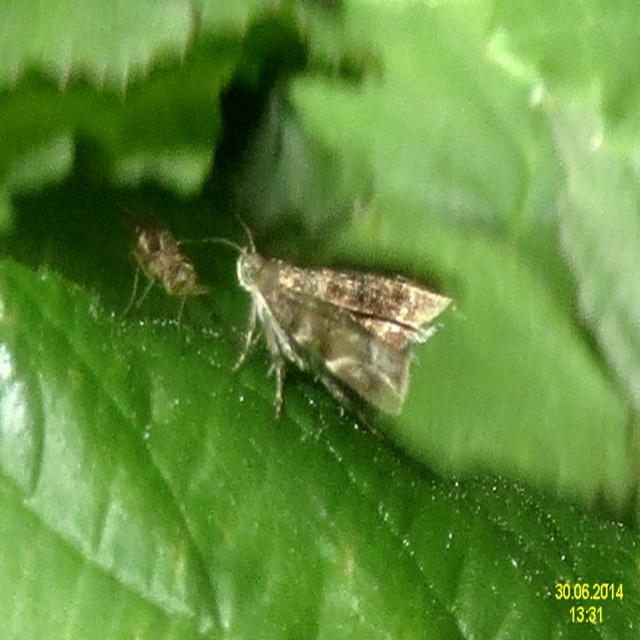Moths and butterflies: (168, 210, 457, 429), (117, 220, 214, 334)
